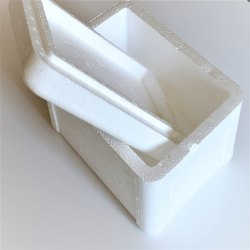Foam Box: (14, 1, 250, 233)
